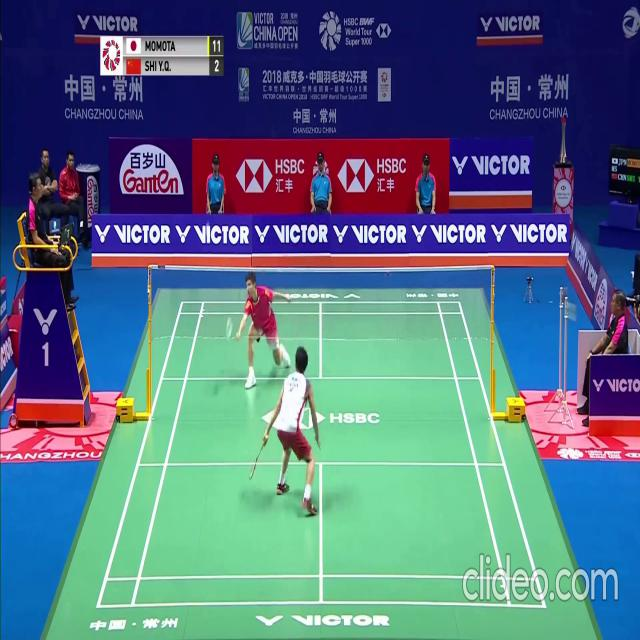Shuttlecock: (205, 223, 210, 230)
